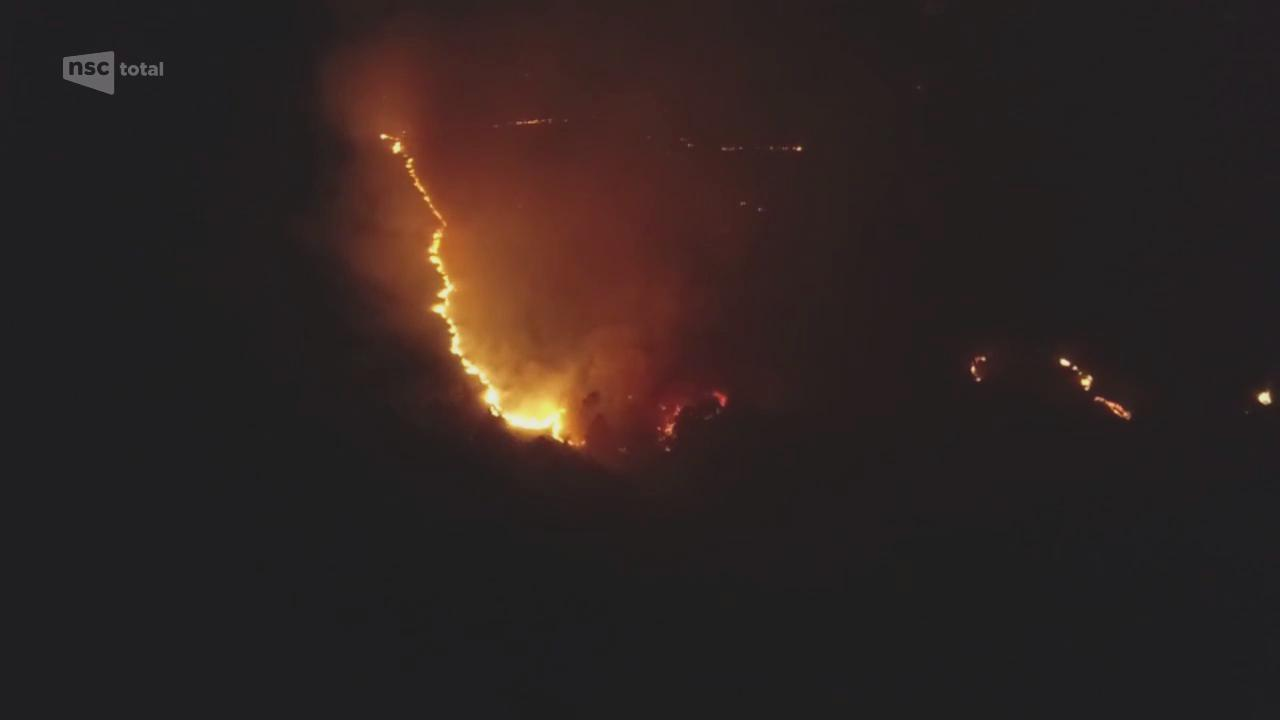Fire: (386, 129, 585, 448), (1058, 358, 1132, 424), (658, 407, 683, 439), (971, 356, 990, 385), (1256, 382, 1276, 406), (712, 389, 731, 409)
